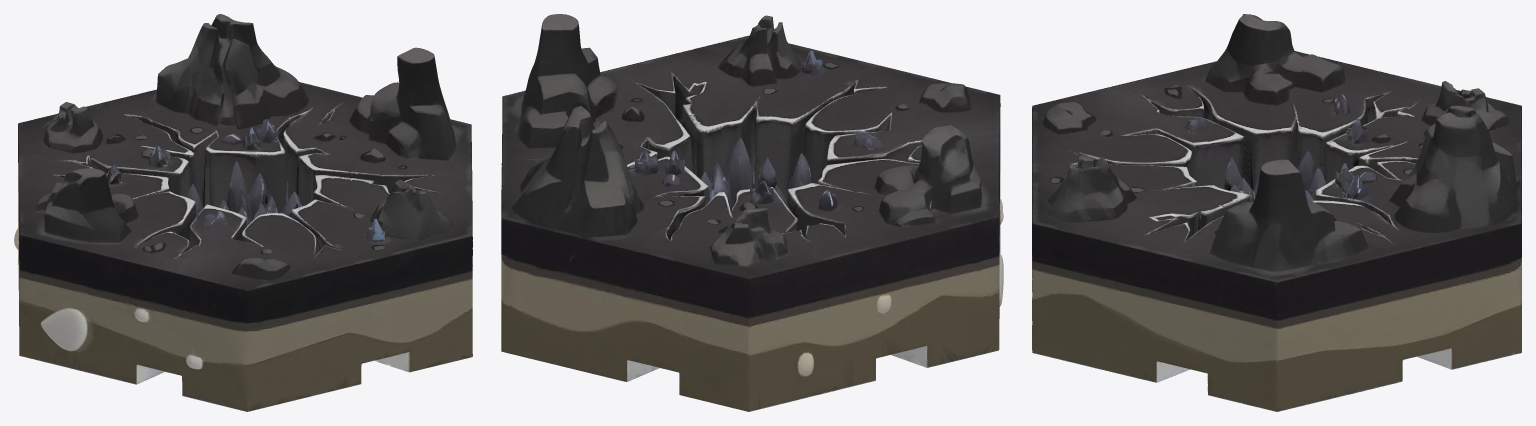
The model's file is obsidiantile_c.glb.
3 renders of one model, left to right at view 1: azimuth 30°, elevation 25°; view 2: azimuth 150°, elevation 25°; view 3: azimuth 270°, elevation 25°, orthographic. The views are drawn at different scales.
Bounding box in the file's own units: 1.9 × 0.8729 × 1.67.
Materials: 1 (1 with a texture image).
